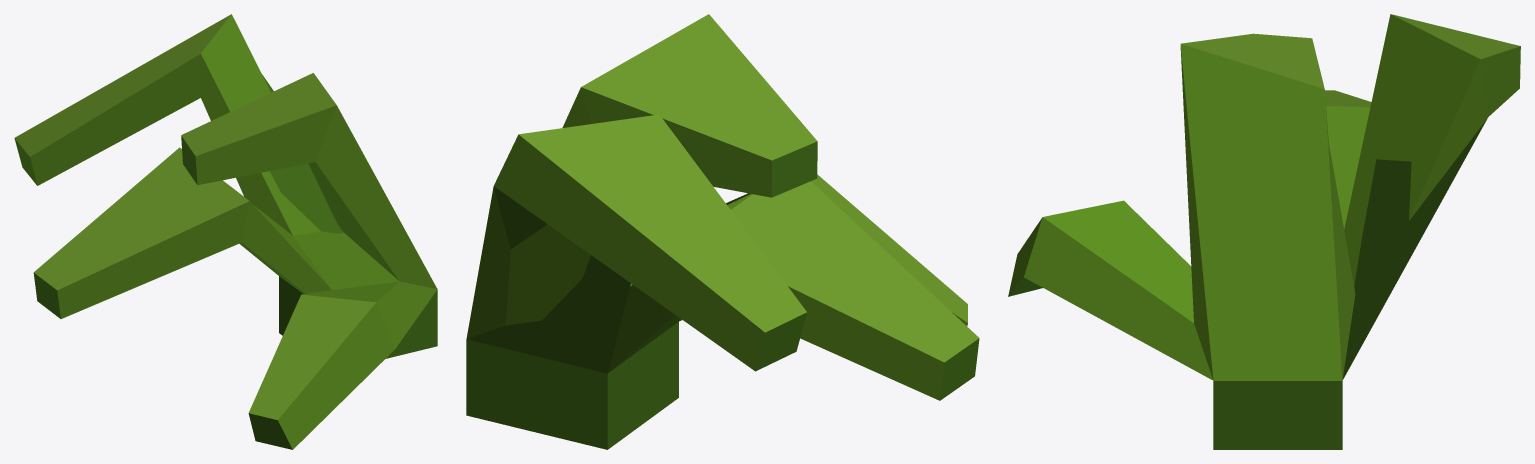
The model's file is ST_Prop_Plant_05.fbx.
3 views of the same model, side by side, from view 1: azimuth 30°, elevation 25°; view 2: azimuth 150°, elevation 25°; view 3: azimuth 270°, elevation 25° (orthographic). The views are drawn at different scales.
Visible parts, largest first — view 1: ST_Prop_Plant_05; view 2: ST_Prop_Plant_05; view 3: ST_Prop_Plant_05.
Part boxes in pixels (<box>): ST_Prop_Plant_05: <box>14,14,437,449</box>; ST_Prop_Plant_05: <box>466,14,979,449</box>; ST_Prop_Plant_05: <box>1008,14,1520,449</box>.
Bounding box in the file's own units: 1.45 × 1.09 × 1.49.
